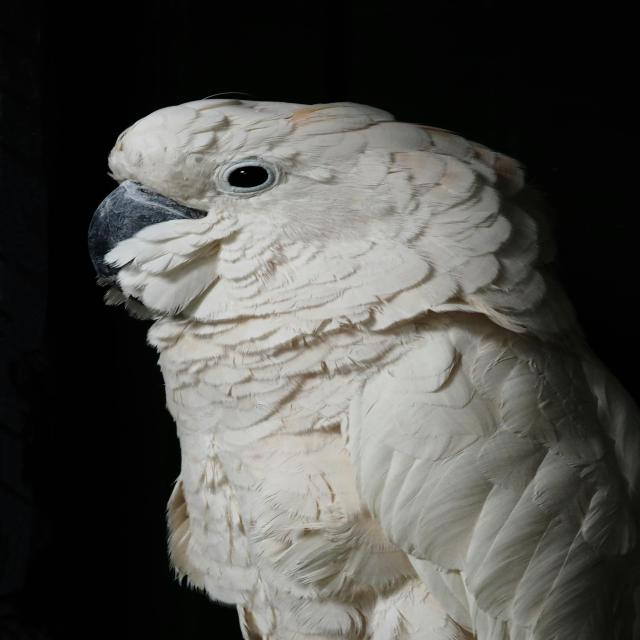Kakatua Putih: (60, 77, 640, 640)
